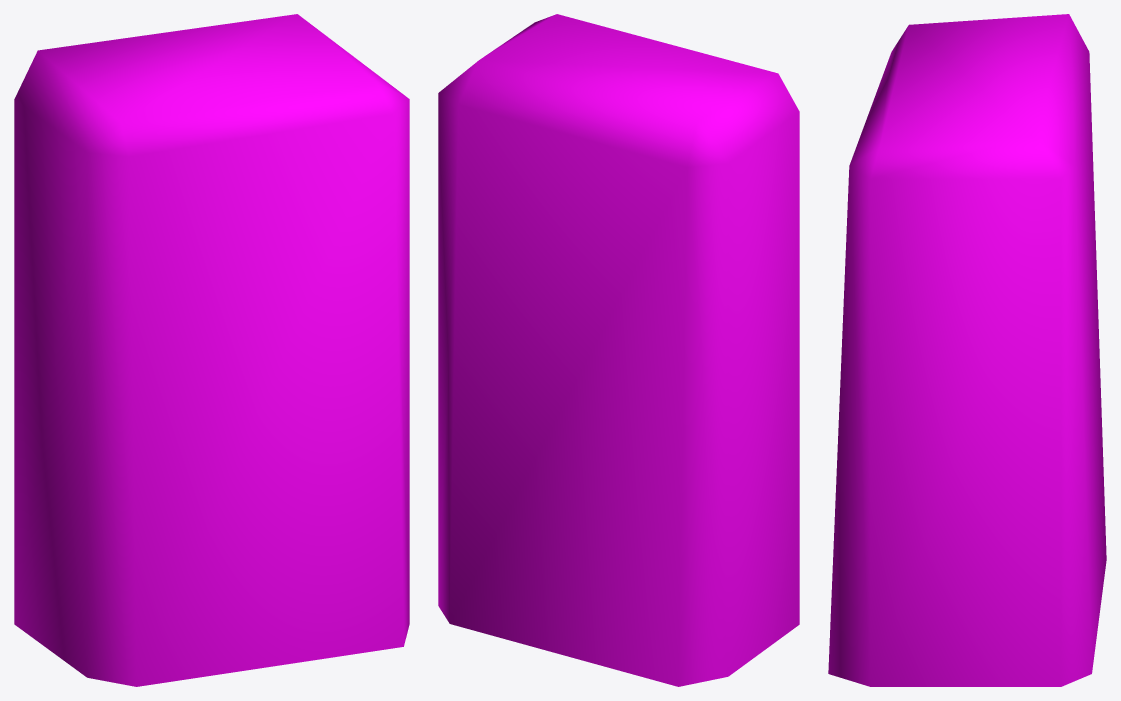
Rendered from stone_cubic_weathered_04.glb.
3 views of the same model, side by side, from view 1: azimuth 30°, elevation 25°; view 2: azimuth 150°, elevation 25°; view 3: azimuth 270°, elevation 25° (orthographic). The views are drawn at different scales.
Visible parts, largest first — view 1: Cube_006-mesh; view 2: Cube_006-mesh; view 3: Cube_006-mesh.
Boxes of the visible parts, <box> form: Cube_006-mesh: <box>14,14,409,686</box>; Cube_006-mesh: <box>438,14,799,686</box>; Cube_006-mesh: <box>828,14,1106,686</box>.
Size of the model in its own units: 6.27 by 11.39 by 5.26.
